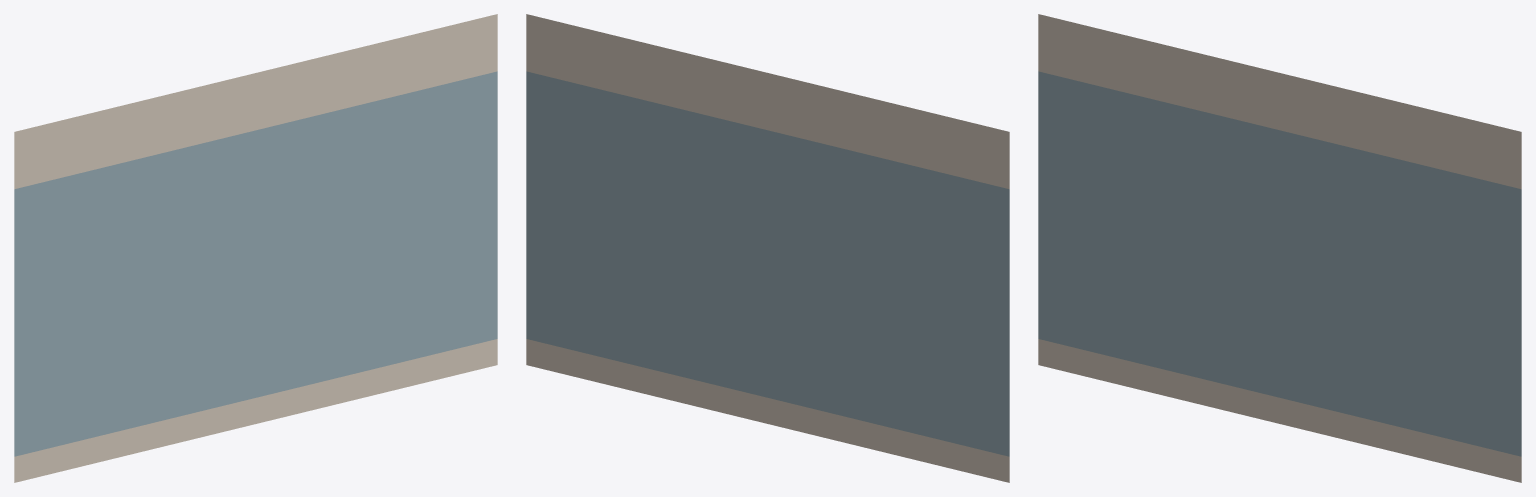
File: backwall.glb
3 views of the same model, side by side, from view 1: azimuth 30°, elevation 25°; view 2: azimuth 150°, elevation 25°; view 3: azimuth 330°, elevation 25° (orthographic).
Visible parts, largest first — view 1: backWall; view 2: backWall; view 3: backWall.
Part boxes in pixels (left/top/right/bottom): backWall: left=14, top=14, right=497, bottom=482; backWall: left=526, top=14, right=1009, bottom=482; backWall: left=1038, top=14, right=1521, bottom=482.
Size of the model in its own units: 4.46 by 3.1 by 1.45e-06.
Materials: 1 (1 with a texture image).
